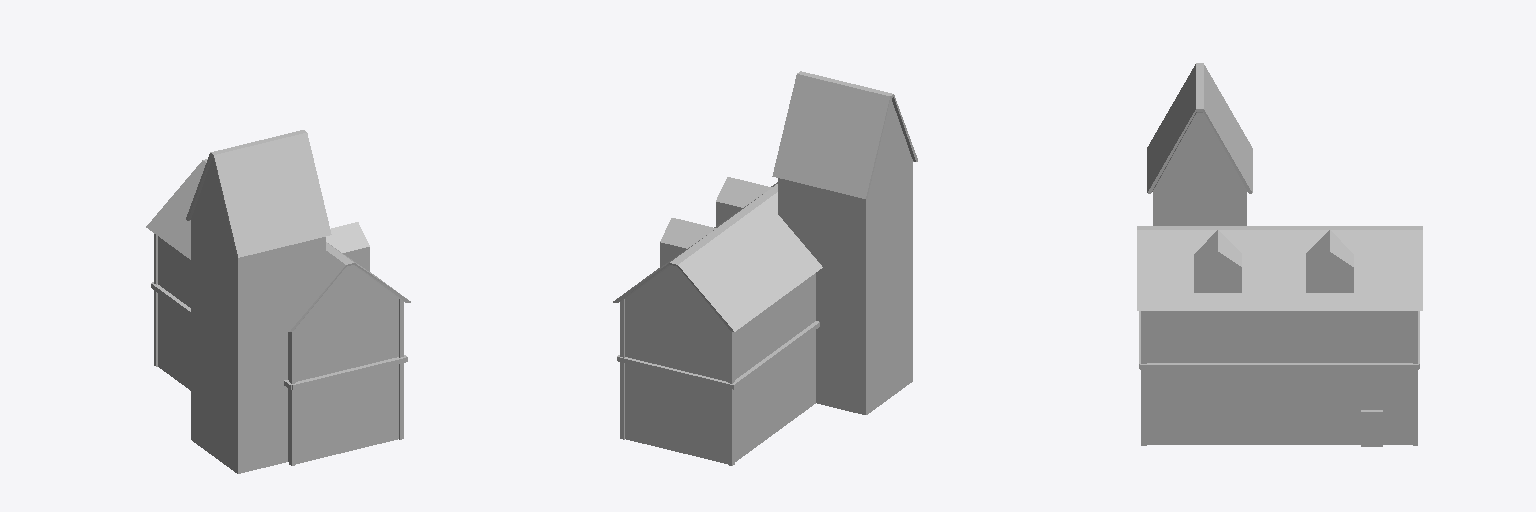
Rendered from house2.obj.
The picture shows the model from 3 angles: view 1: azimuth 30°, elevation 25°; view 2: azimuth 150°, elevation 25°; view 3: azimuth 270°, elevation 25°; orthographic projection.
Visible parts, largest first — view 1: house_2; view 2: house_2; view 3: house_2.
Boxes of the visible parts, x1,y1,x2,y2 form: house_2: [146, 130, 410, 473]; house_2: [613, 71, 917, 465]; house_2: [1137, 63, 1422, 446].
Size of the model in its own units: 1.97 by 3.41 by 2.91.